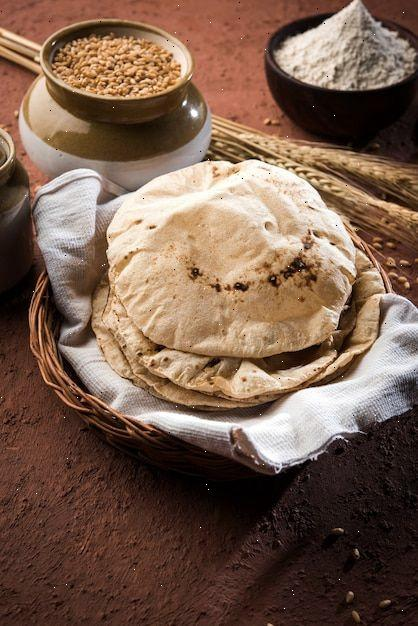roti phulka: (107, 159, 357, 383)
